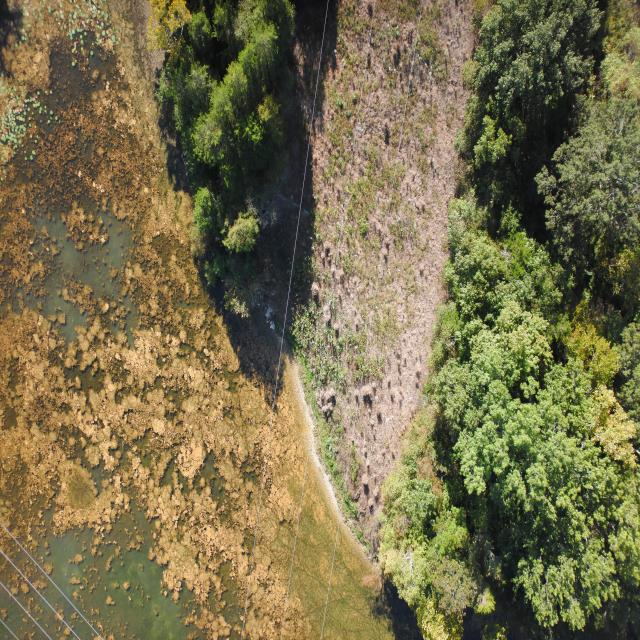Area of Interest: (382, 0, 636, 629), (157, 10, 287, 230)
